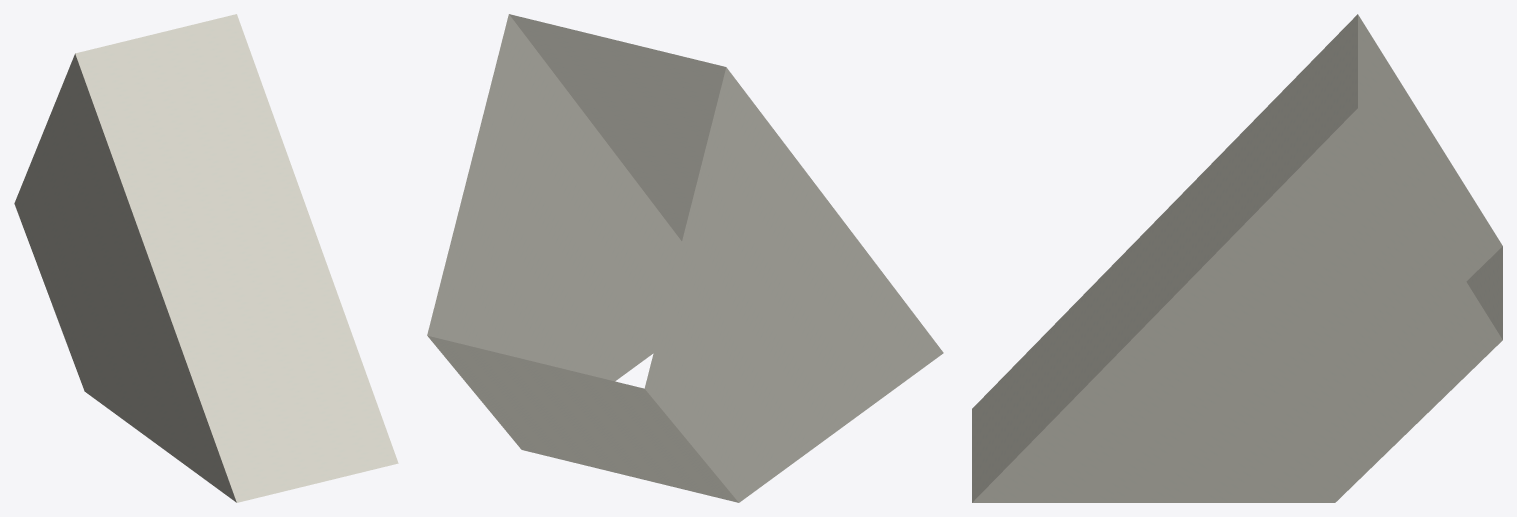
Rendered from window_light.fbx.
The picture shows the model from 3 angles, left to right: view 1: azimuth 30°, elevation 25°; view 2: azimuth 150°, elevation 25°; view 3: azimuth 270°, elevation 25°; orthographic projection. The views are drawn at different scales.
Visible parts, largest first — view 1: mesh_0; view 2: mesh_0; view 3: mesh_0.
Boxes of the visible parts, x1,y1,x2,y2 form: mesh_0: (14,14,398,502); mesh_0: (427,14,943,502); mesh_0: (972,14,1502,502).
Bounding box in the file's own units: 95.65 × 187 × 228.
Materials: 1 (1 with a texture image).
